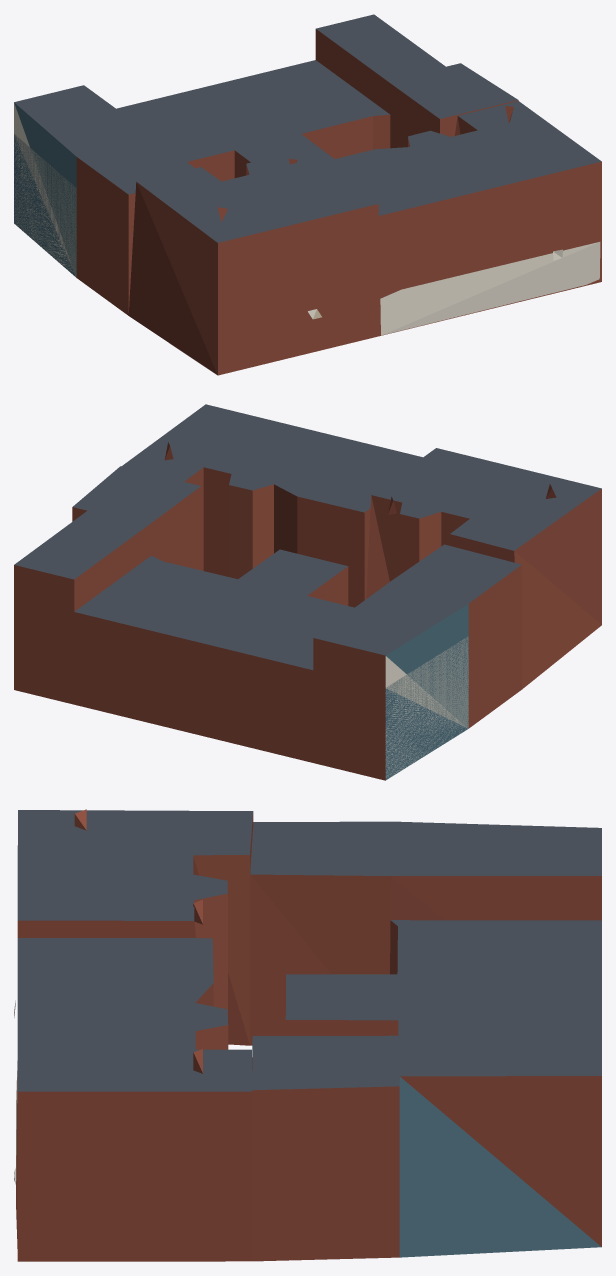
The model's file is cavia.lod2.glb.
3 views of the same model, one above another, from view 1: azimuth 30°, elevation 25°; view 2: azimuth 150°, elevation 25°; view 3: azimuth 270°, elevation 25° (orthographic). The views are drawn at different scales.
Parts seen in each view (by area): view 1: lod2; view 2: lod2; view 3: lod2.
Boxes of the visible parts, left/top/right/bottom form: lod2: left=14, top=14, right=601, bottom=375; lod2: left=14, top=404, right=601, bottom=780; lod2: left=14, top=809, right=601, bottom=1261.
Size of the model in its own units: 45.94 by 16.29 by 42.48.
